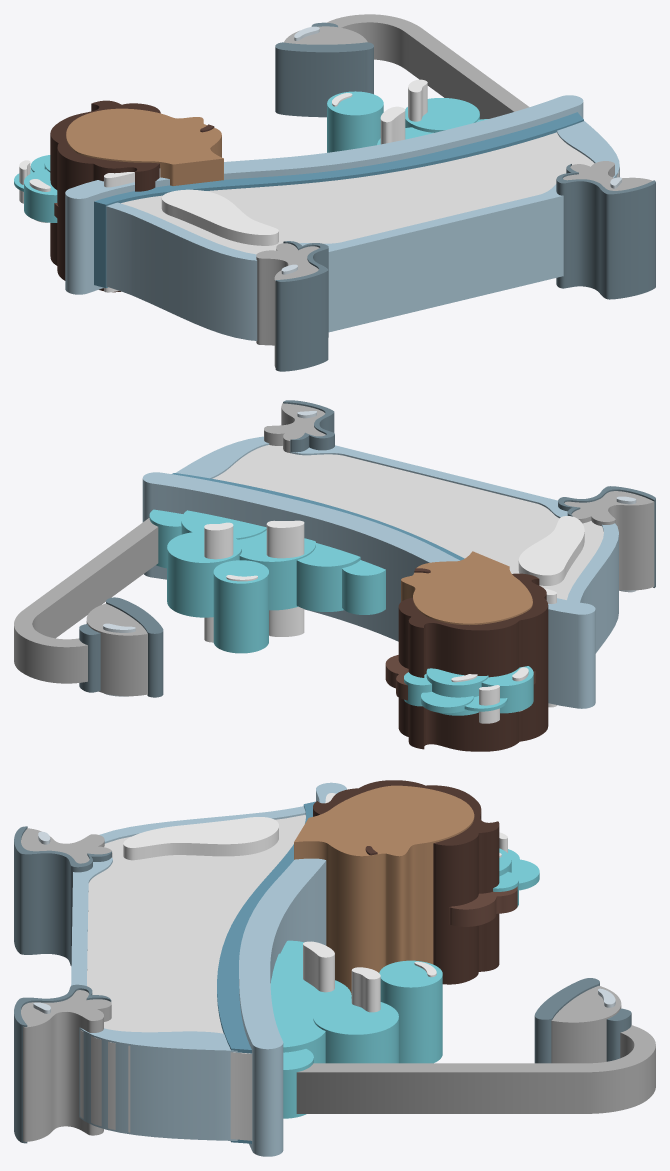
The model's file is emoji_u1f6c0_1f3fd.glb.
3 views of the same model, one above another, from view 1: azimuth 30°, elevation 25°; view 2: azimuth 150°, elevation 25°; view 3: azimuth 270°, elevation 25° (orthographic). The views are drawn at different scales.
Parts seen in each view (by area): view 1: emoji_u1f6c0_1f3fd; view 2: emoji_u1f6c0_1f3fd; view 3: emoji_u1f6c0_1f3fd.
Boxes of the visible parts, x1,y1,x2,y2 form: emoji_u1f6c0_1f3fd: (14,14,655,371); emoji_u1f6c0_1f3fd: (14,400,655,751); emoji_u1f6c0_1f3fd: (14,780,655,1156).
Size of the model in its own units: 0.0329 by 0.0084 by 0.0335.
